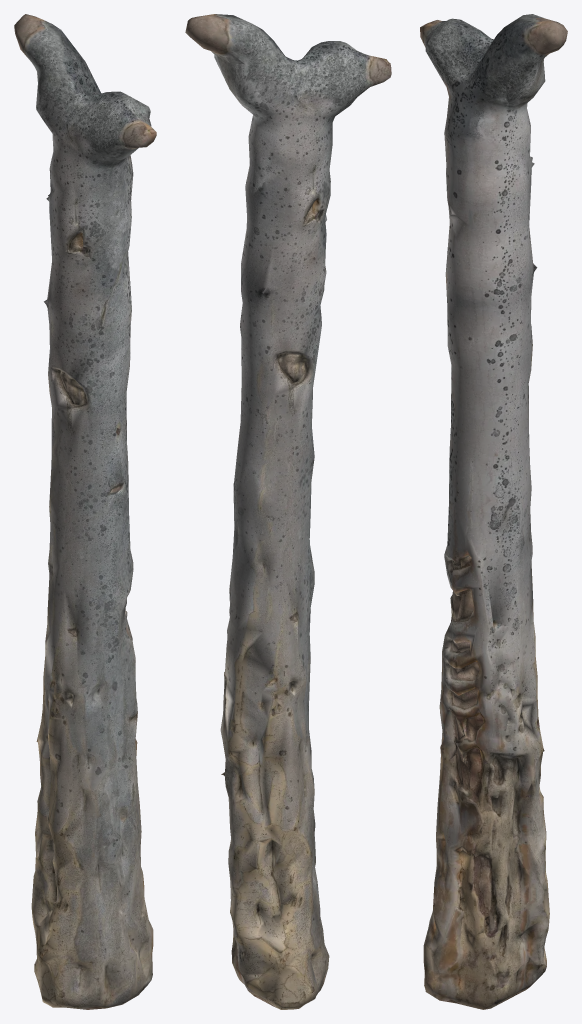
File: tree-dead-quiver.glb
3 views of the same model, side by side, from view 1: azimuth 90°, elevation 25°; view 2: azimuth 150°, elevation 25°; view 3: azimuth 270°, elevation 25° (orthographic). The views are drawn at different scales.
Parts seen in each view (by area): view 1: dead_quiver_trunk_LOD0; view 2: dead_quiver_trunk_LOD0; view 3: dead_quiver_trunk_LOD0.
Boxes of the visible parts, x1=… form: dead_quiver_trunk_LOD0: x1=14, y1=14, x2=156, y2=1009; dead_quiver_trunk_LOD0: x1=185, y1=14, x2=391, y2=1009; dead_quiver_trunk_LOD0: x1=420, y1=14, x2=567, y2=1009.
Bounding box in the file's own units: 0.3053 × 1.99 × 0.2681.
1 material, 1 textured.
